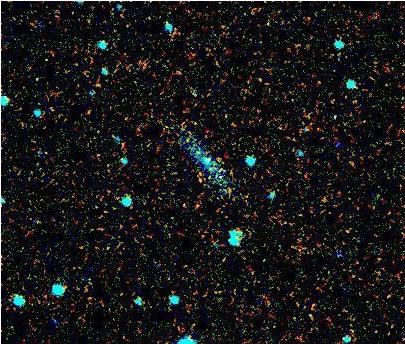star: (183, 164, 213, 194)
